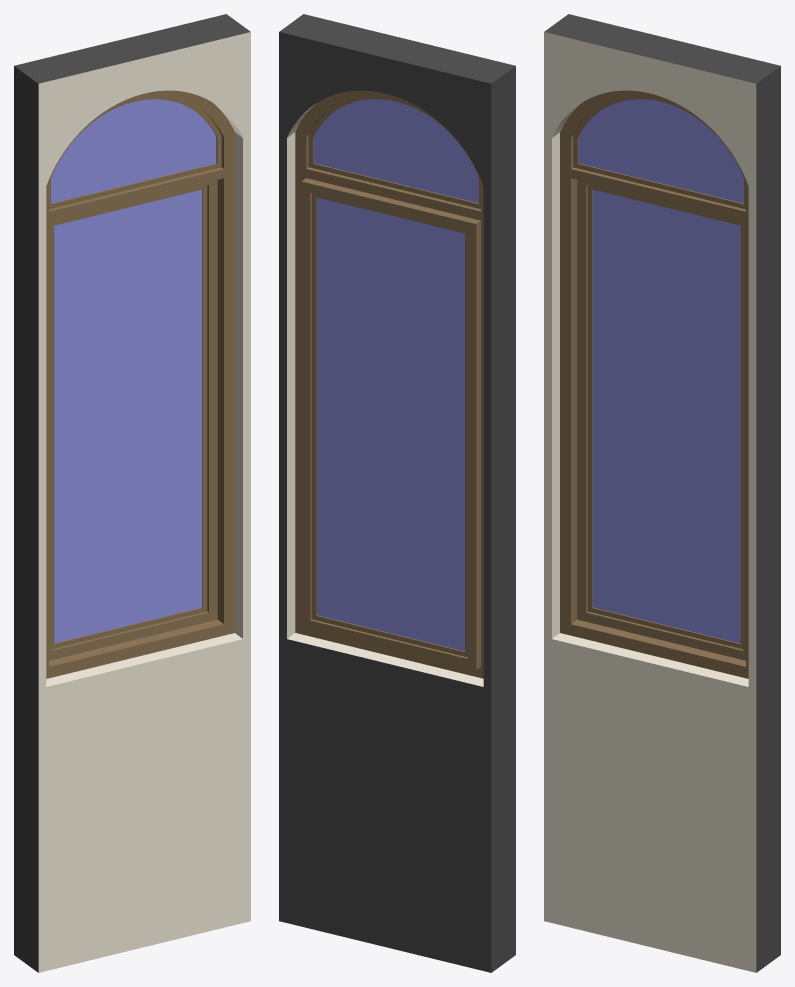
The model's file is Wall_S_3.fbx.
The picture shows the model from 3 angles, left to right: view 1: azimuth 30°, elevation 25°; view 2: azimuth 150°, elevation 25°; view 3: azimuth 330°, elevation 25°; orthographic projection.
Visible parts, largest first — view 1: Wall_S_3; view 2: Wall_S_3; view 3: Wall_S_3.
Part boxes in pixels (x1=…): Wall_S_3: x1=14, y1=14, x2=250, y2=972; Wall_S_3: x1=279, y1=14, x2=515, y2=972; Wall_S_3: x1=544, y1=14, x2=780, y2=972.
Size of the model in its own units: 50 by 200 by 10.
